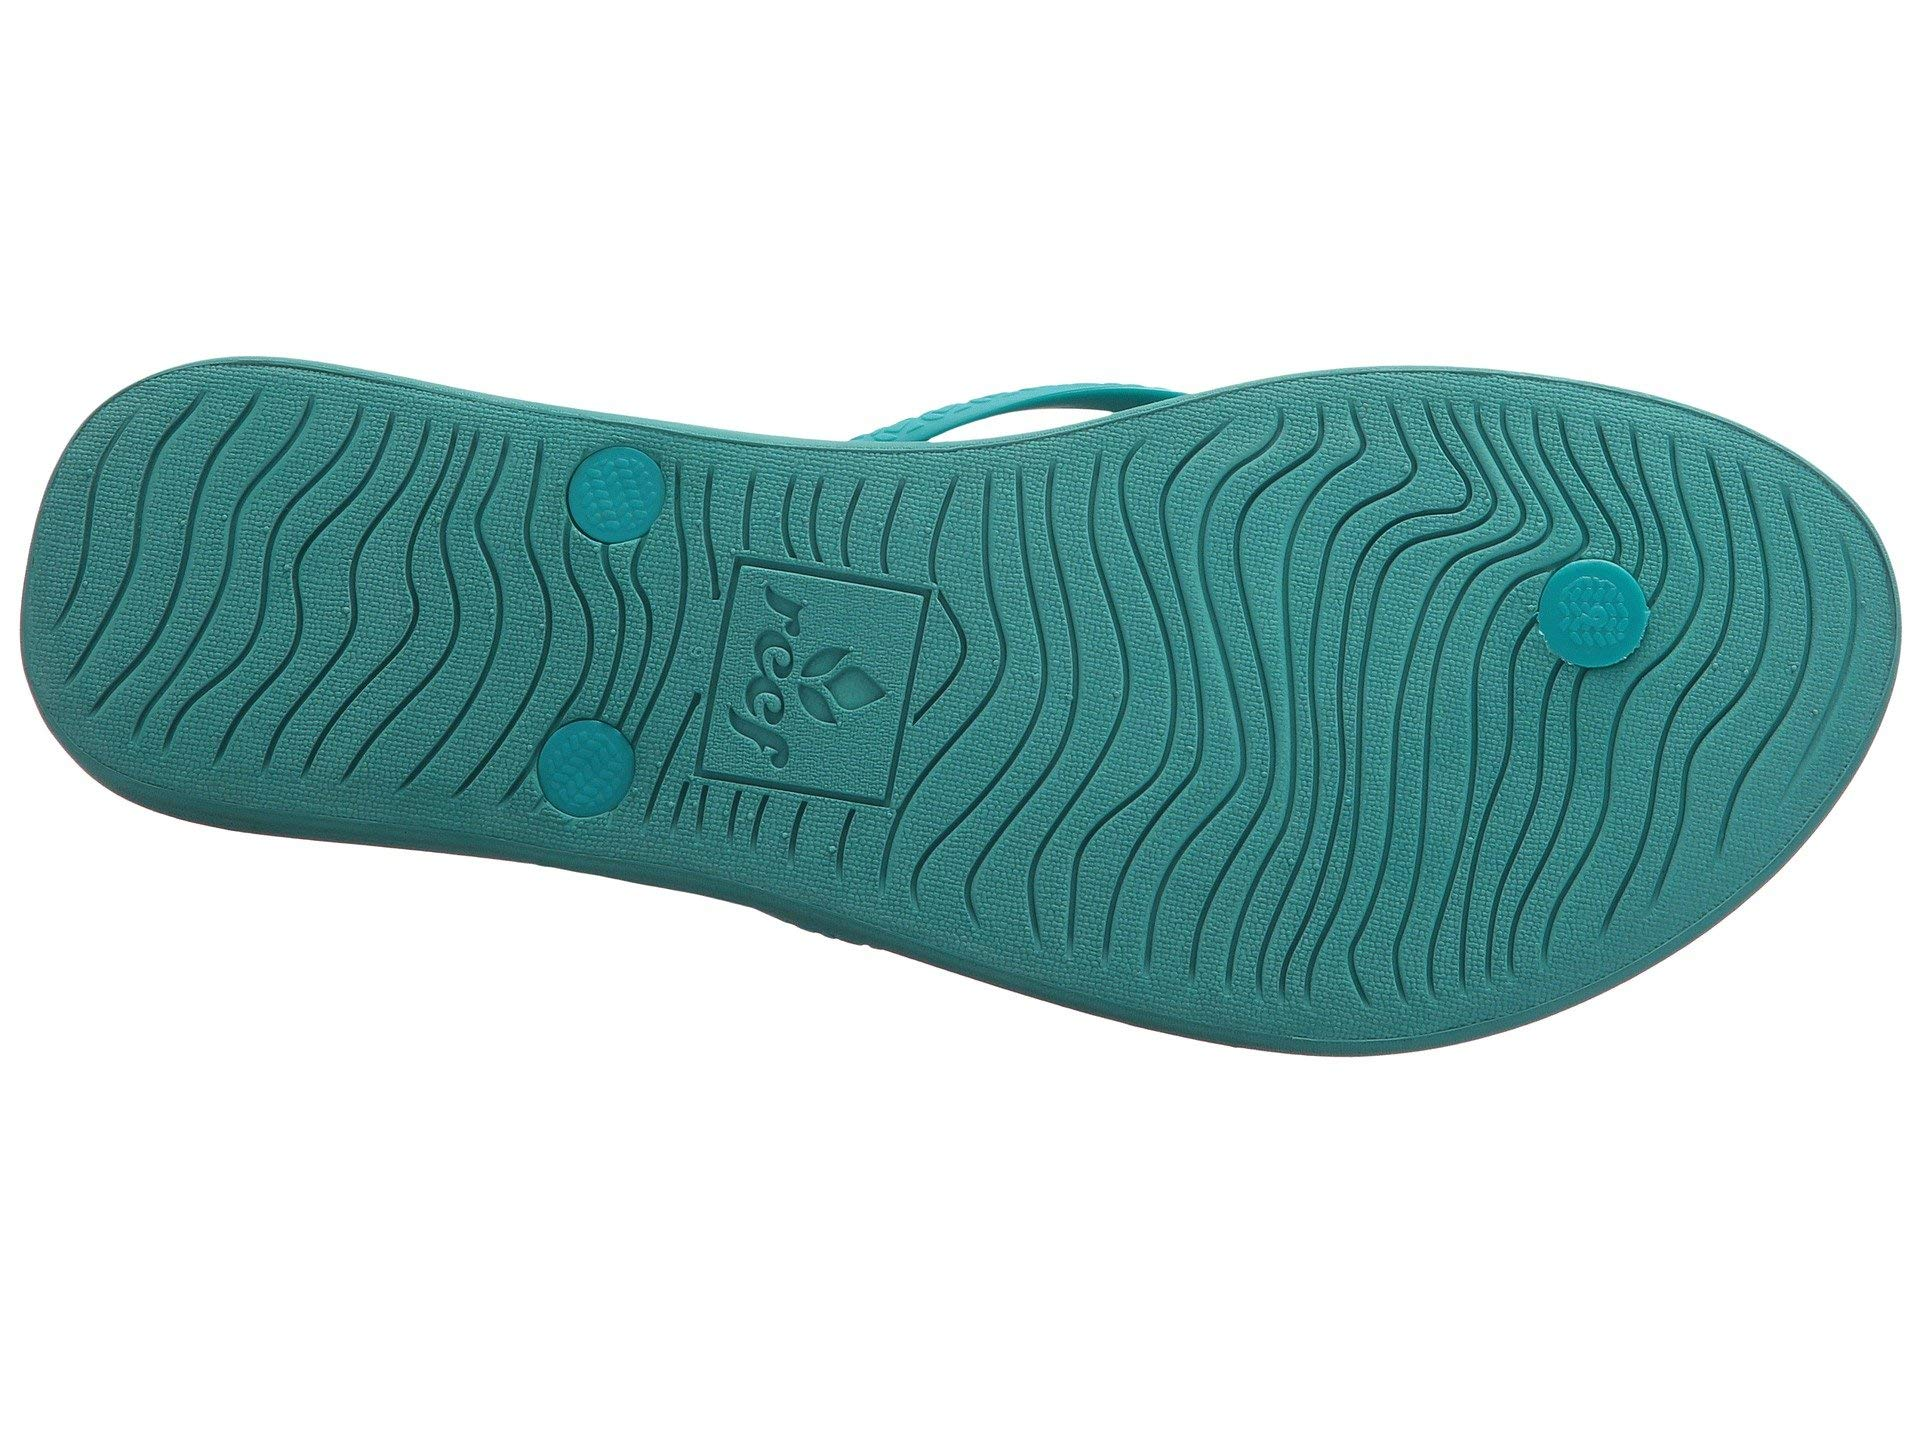circle: (1474, 511, 1672, 708), (517, 708, 652, 839), (559, 433, 670, 567)
line: (1052, 560, 1480, 953), (124, 427, 494, 759), (1680, 498, 1820, 781), (1474, 511, 1672, 708), (517, 708, 652, 839)
quad: (674, 546, 952, 824)
text: (674, 546, 952, 824)
